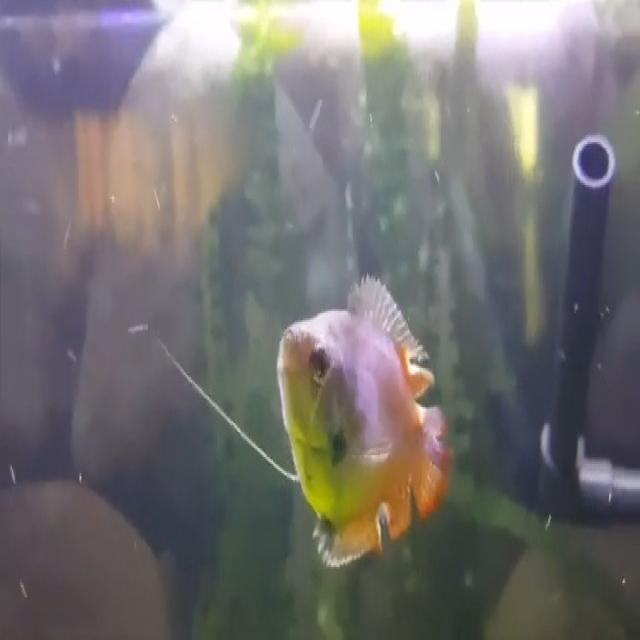fish: (273, 274, 457, 571)
